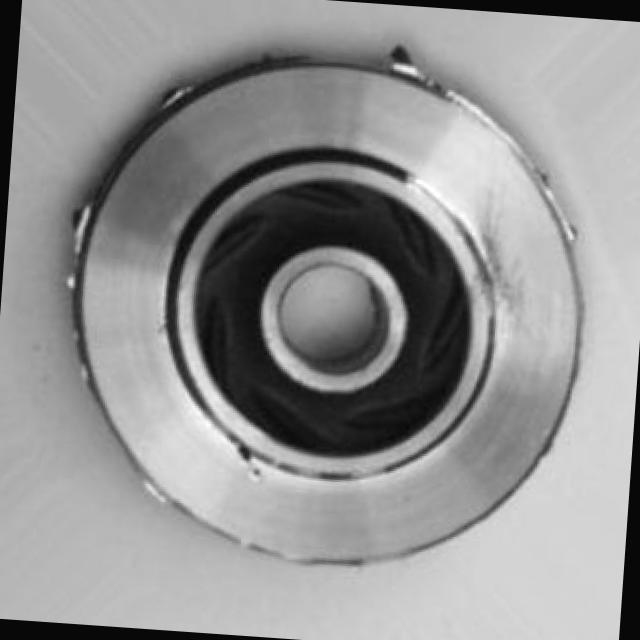Defect: (52, 195, 110, 256), (226, 424, 276, 482), (380, 25, 420, 89), (161, 72, 196, 114)
